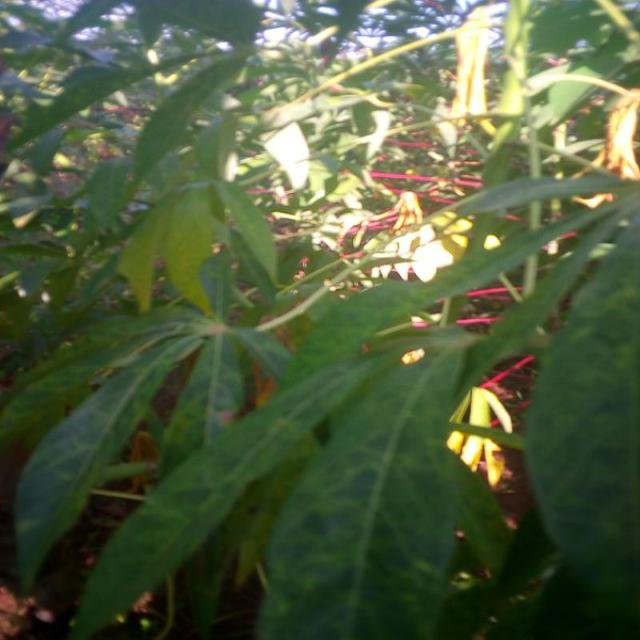cassava leaf: (1, 1, 638, 638), (254, 336, 512, 638), (522, 215, 638, 621)
